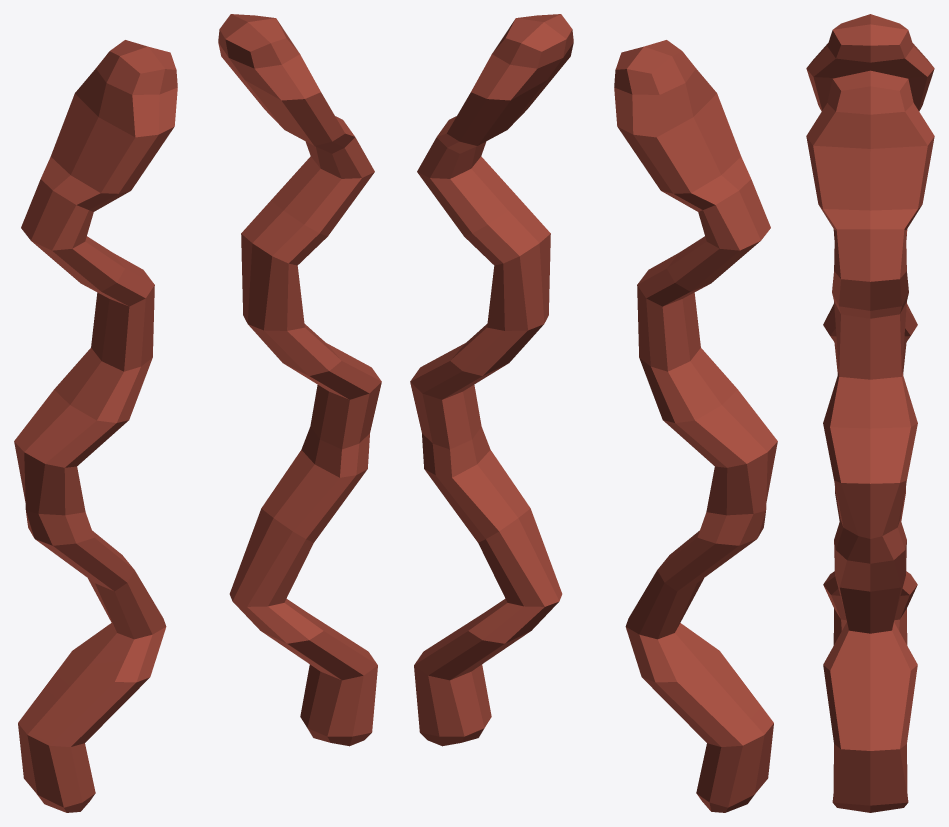
Rendered from MDL_Sauce.fbx.
3 renders of one model, left to right at view 1: azimuth 30°, elevation 25°; view 2: azimuth 150°, elevation 25°; view 3: azimuth 270°, elevation 25°, orthographic. The views are drawn at different scales.
Visible parts, largest first — view 1: KetchupMustard.001; view 2: KetchupMustard.001; view 3: KetchupMustard.001.
Part boxes in pixels (x1,y1,x2,y2): KetchupMustard.001: (14,14,381,812); KetchupMustard.001: (410,14,777,812); KetchupMustard.001: (806,14,934,812).
Bounding box in the file's own units: 31.36 × 63.46 × 10.58.
